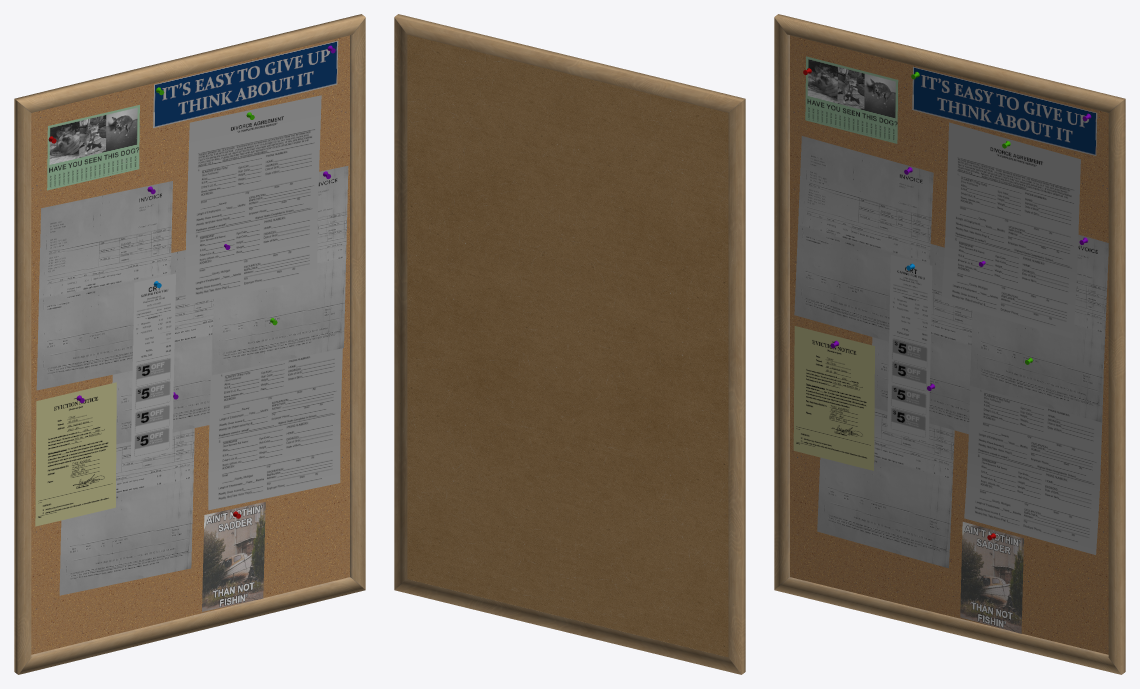
File: SM_NoticeBoard_01f.fbx
The picture shows the model from 3 angles, left to right: view 1: azimuth 30°, elevation 25°; view 2: azimuth 150°, elevation 25°; view 3: azimuth 330°, elevation 25°; orthographic projection.
Visible parts, largest first — view 1: noticeboard04; view 2: noticeboard04; view 3: noticeboard04.
Part boxes in pixels (x1=…): noticeboard04: x1=14, y1=14, x2=365, y2=674; noticeboard04: x1=394, y1=14, x2=745, y2=674; noticeboard04: x1=774, y1=14, x2=1125, y2=674.
Size of the model in its own units: 56.61 by 89.24 by 2.15.
